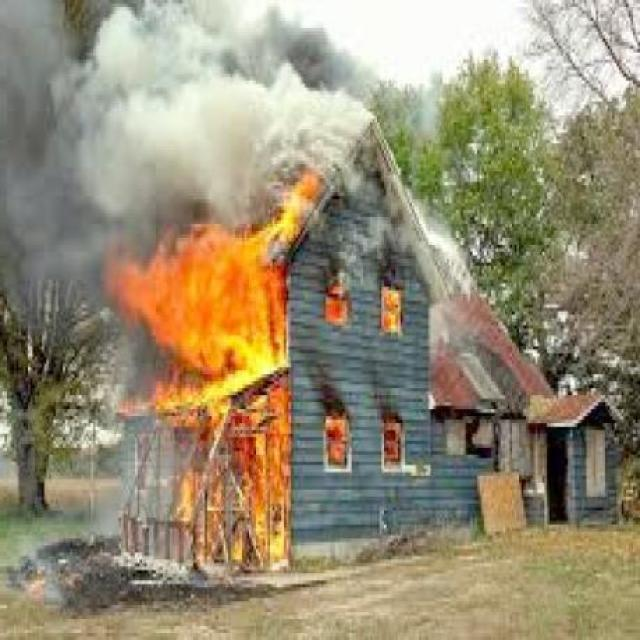Fire: (106, 224, 295, 581), (312, 405, 360, 471), (373, 413, 412, 480), (322, 266, 354, 342), (376, 280, 403, 351)
Smoke: (1, 0, 447, 233), (0, 216, 108, 374)
